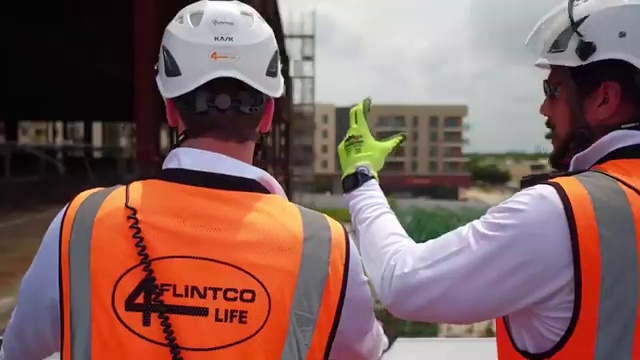helmet: (153, 1, 284, 98)
jacket: (61, 177, 353, 360)
